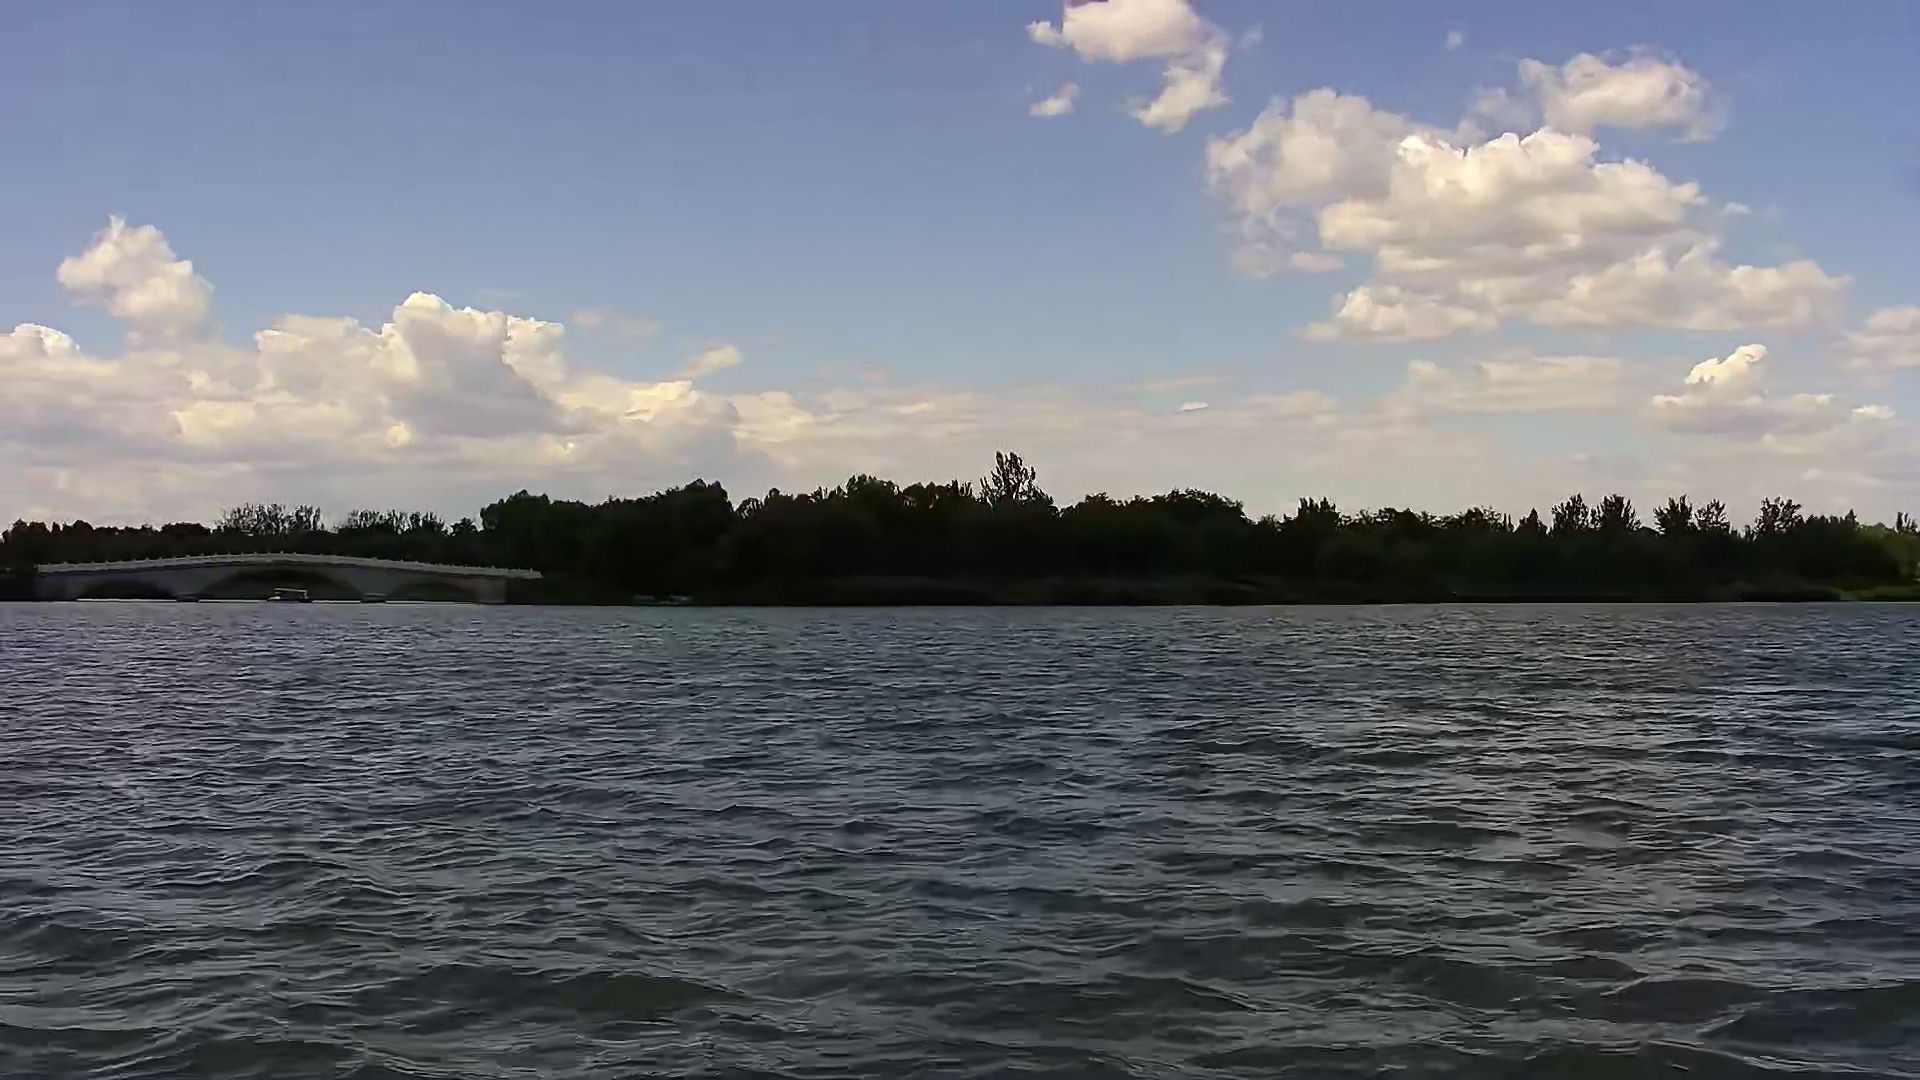boat: (262, 583, 320, 608)
bridge: (32, 543, 545, 611)
